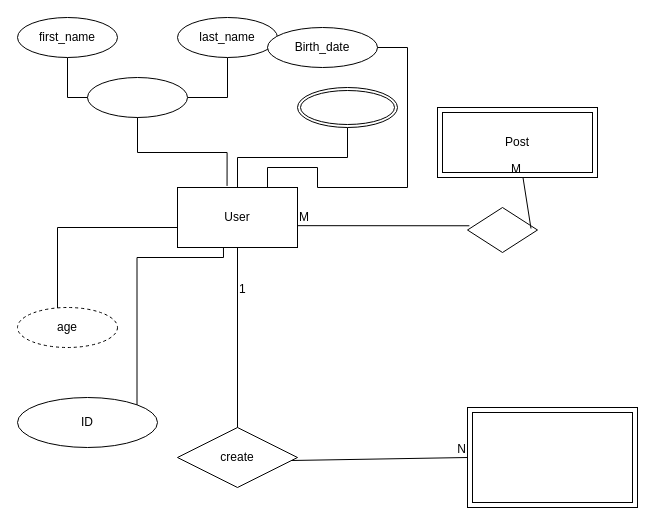
The diagram is 655 pixels wide and 525 high, and some of its shapes have lost their labels. Here are the shapes that lost their labels. From the top down, the box of each, then its label:
(86, 76, 188, 118): Fullname
(296, 86, 398, 128): profile_img
(466, 206, 538, 252): like
(466, 406, 638, 508): Comment
